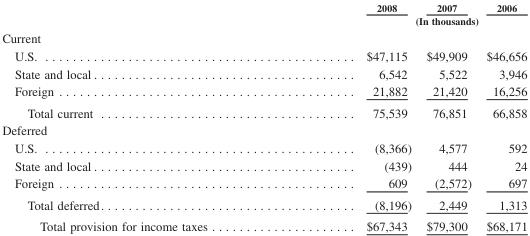table: (1, 1, 526, 233)
table column: (1, 1, 286, 233), (286, 1, 418, 233), (418, 1, 478, 233), (478, 1, 526, 233)
table column header: (1, 1, 526, 28)
table projected row header: (1, 28, 526, 46), (1, 121, 526, 138)
table row: (1, 193, 526, 215), (1, 101, 526, 121), (1, 82, 526, 101), (1, 174, 526, 193), (1, 28, 526, 46), (1, 46, 526, 64), (1, 64, 526, 82), (1, 138, 526, 156), (1, 156, 526, 174), (1, 215, 526, 233), (1, 121, 526, 138), (1, 13, 526, 28), (1, 1, 526, 13)
table spanning cell: (286, 13, 526, 28)
